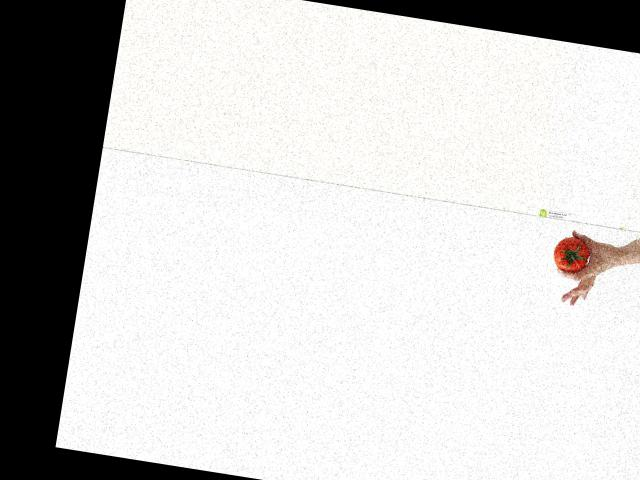tomato: (551, 234, 591, 274)
